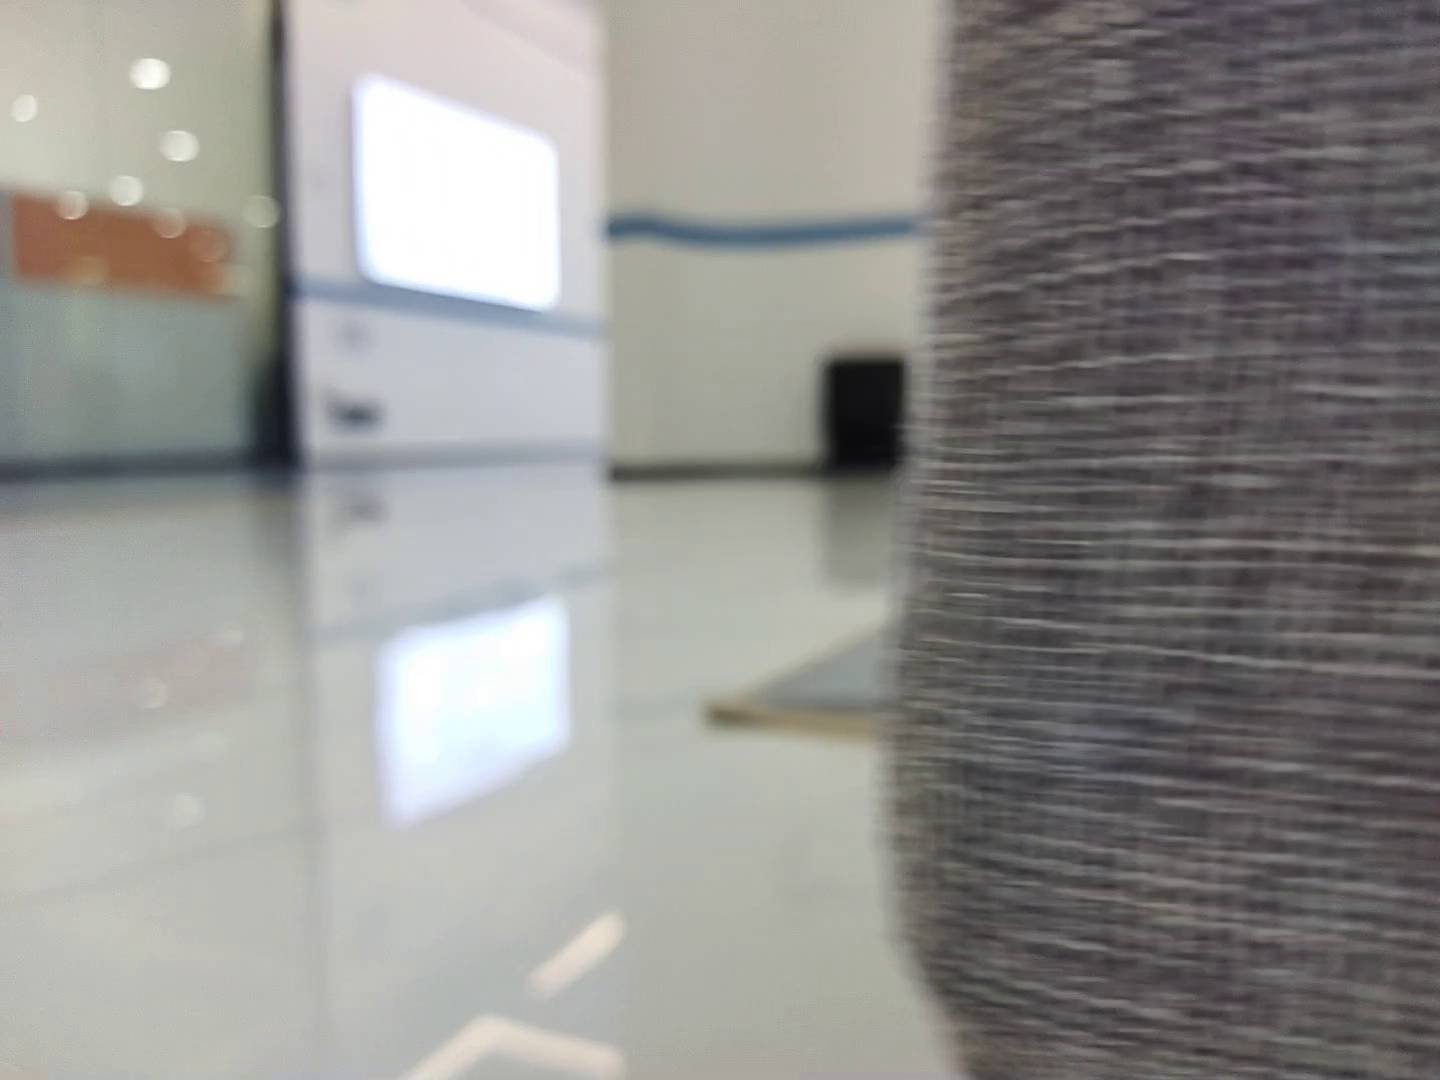dust collecting barrel: (803, 352, 912, 482)
